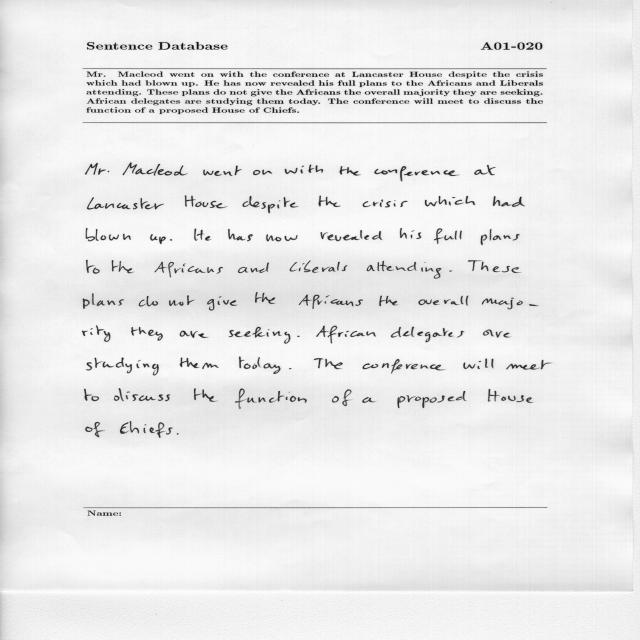word: (235, 388, 307, 409), (367, 261, 442, 279), (87, 358, 159, 376), (374, 166, 459, 181), (363, 359, 444, 374), (398, 391, 467, 408), (391, 327, 464, 343), (316, 326, 376, 344), (229, 327, 290, 344), (154, 262, 223, 277), (87, 197, 164, 210), (242, 196, 299, 213), (120, 422, 173, 439), (299, 295, 363, 309), (123, 163, 188, 176), (290, 260, 348, 273), (114, 389, 170, 402), (239, 357, 281, 374), (321, 230, 383, 241), (468, 260, 520, 273), (83, 293, 124, 309), (488, 389, 533, 403), (481, 229, 520, 245), (482, 298, 538, 309), (86, 229, 131, 242), (185, 196, 228, 208), (425, 196, 475, 206), (419, 296, 469, 306), (83, 325, 111, 342), (506, 360, 552, 370), (207, 296, 237, 311), (434, 228, 462, 244), (131, 327, 163, 341), (180, 358, 219, 369), (203, 166, 242, 176), (363, 200, 408, 208), (493, 196, 525, 207), (285, 165, 323, 174), (238, 263, 269, 274), (332, 390, 352, 407), (194, 388, 217, 402), (314, 358, 343, 369), (228, 229, 253, 241), (464, 359, 494, 369), (86, 163, 110, 175), (112, 261, 134, 274), (169, 295, 195, 306), (86, 422, 105, 437), (483, 329, 510, 338), (319, 196, 341, 207), (255, 292, 275, 304), (400, 228, 421, 239), (266, 235, 298, 242), (474, 165, 496, 175), (340, 166, 361, 176), (139, 296, 158, 307), (194, 229, 211, 241), (180, 331, 209, 338), (87, 260, 100, 274), (380, 296, 398, 306), (85, 389, 99, 401), (150, 234, 166, 244), (253, 170, 272, 175), (363, 397, 376, 403), (170, 239, 172, 241), (177, 433, 179, 435), (297, 336, 300, 337), (289, 368, 292, 369), (450, 271, 452, 272)
